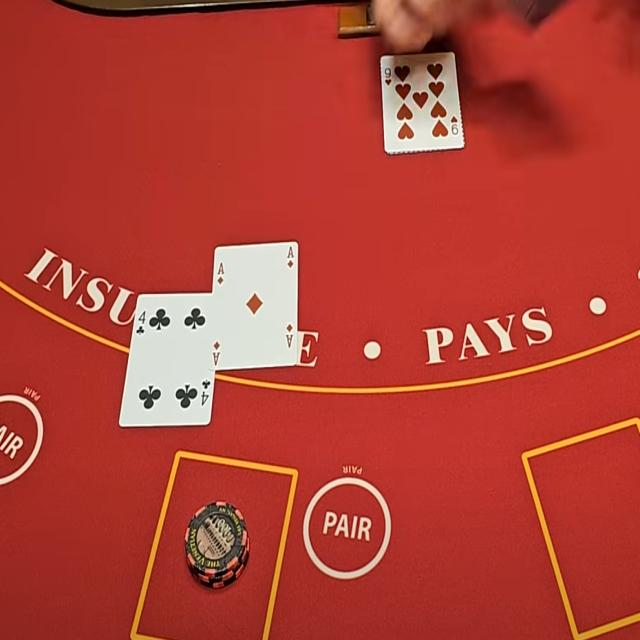4: (136, 306, 148, 326)
9: (382, 64, 393, 79)
A: (215, 257, 228, 276)
